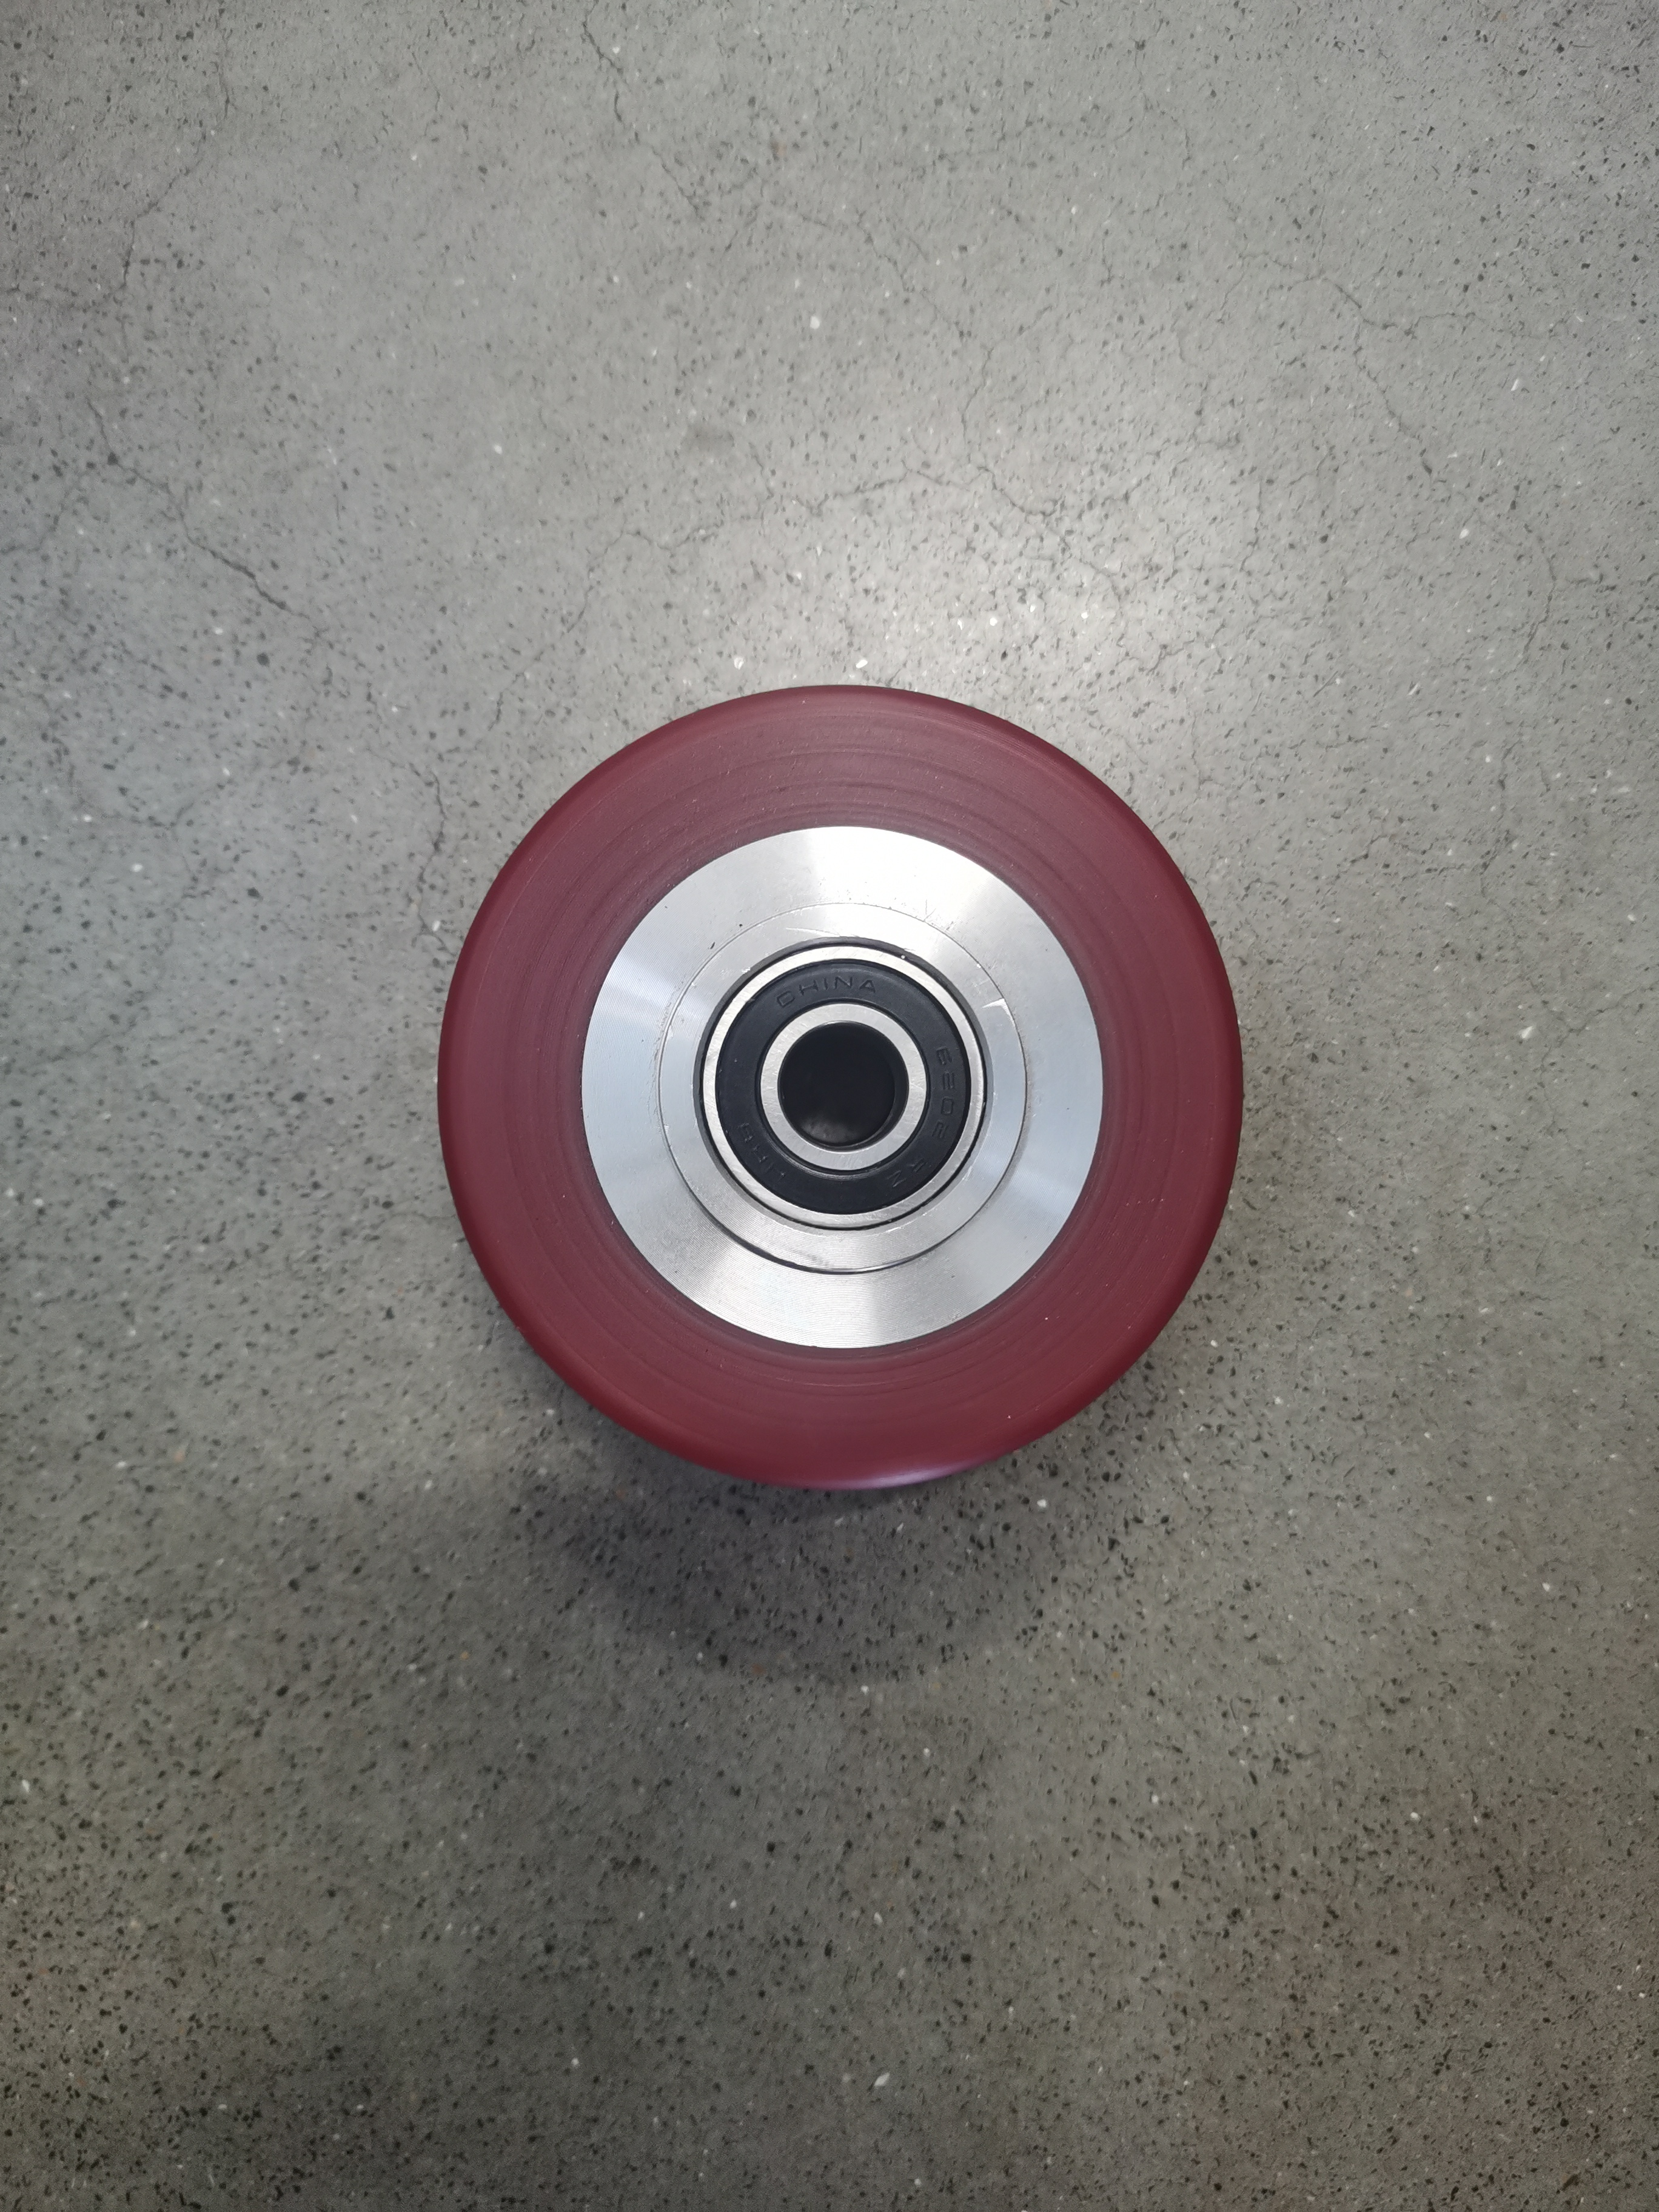good_wheel: (403, 634, 1281, 1507)
